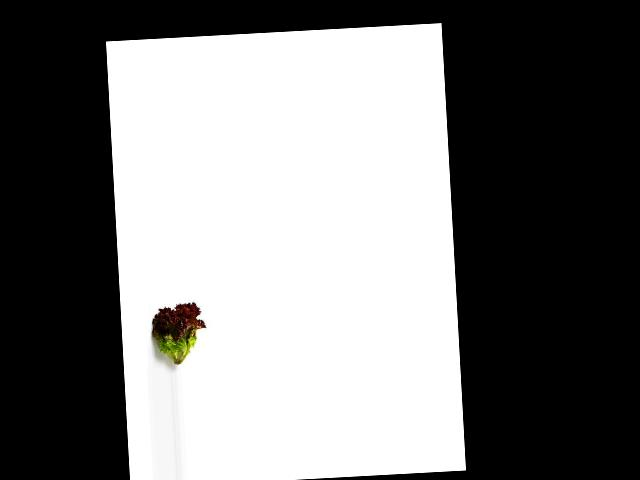lettuce: (149, 298, 206, 373)
